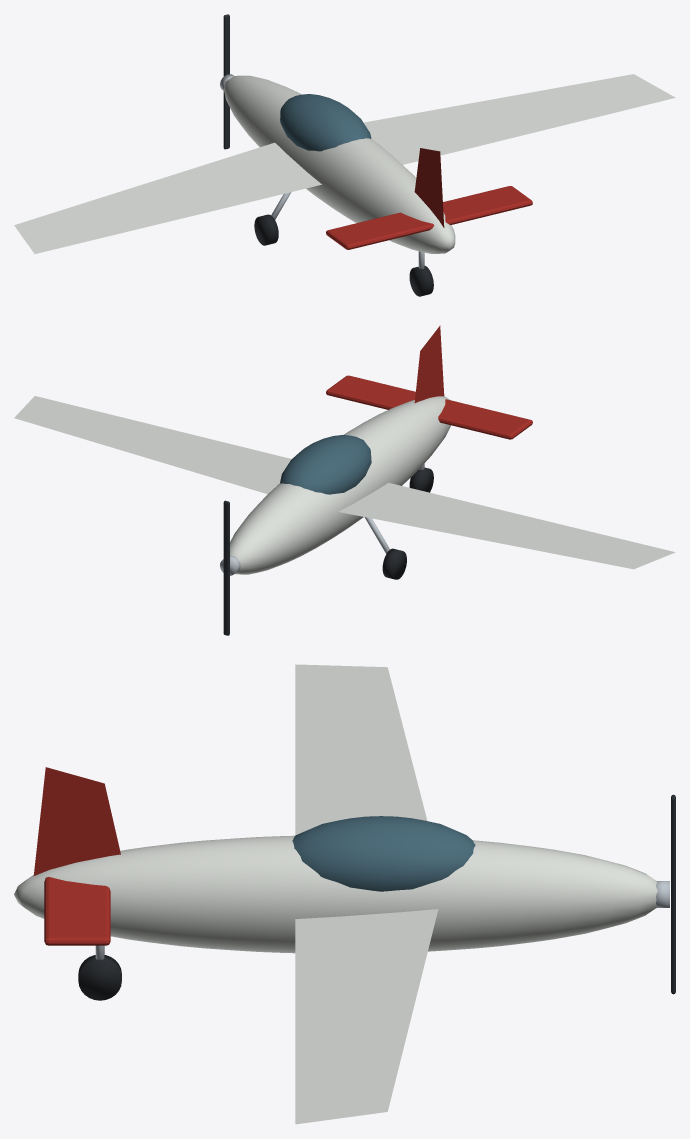
3 renders of one model, top to bottom at view 1: azimuth 30°, elevation 25°; view 2: azimuth 150°, elevation 25°; view 3: azimuth 270°, elevation 25°, orthographic. The views are drawn at different scales.
Parts seen in each view (by area): view 1: mc_plane__Geometry, mc_plane__Propeller; view 2: mc_plane__Geometry, mc_plane__Propeller; view 3: mc_plane__Geometry, mc_plane__Propeller.
Boxes of the visible parts, x1,y1,x2,y2 form: mc_plane__Geometry: [14, 74, 675, 296]; mc_plane__Propeller: [223, 14, 229, 149]; mc_plane__Geometry: [14, 325, 675, 579]; mc_plane__Propeller: [223, 500, 229, 635]; mc_plane__Geometry: [14, 664, 657, 1124]; mc_plane__Propeller: [671, 794, 675, 994].
Size of the model in its own units: 12 by 2.8 by 7.3.
6 materials, 1 textured.
